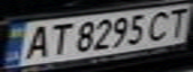2: (93, 16, 115, 52)
5: (124, 11, 154, 46)
8: (72, 18, 96, 53)
9: (109, 15, 133, 49)
A: (18, 22, 54, 61)
C: (145, 8, 175, 42)
T: (160, 4, 193, 38), (42, 20, 72, 56)
